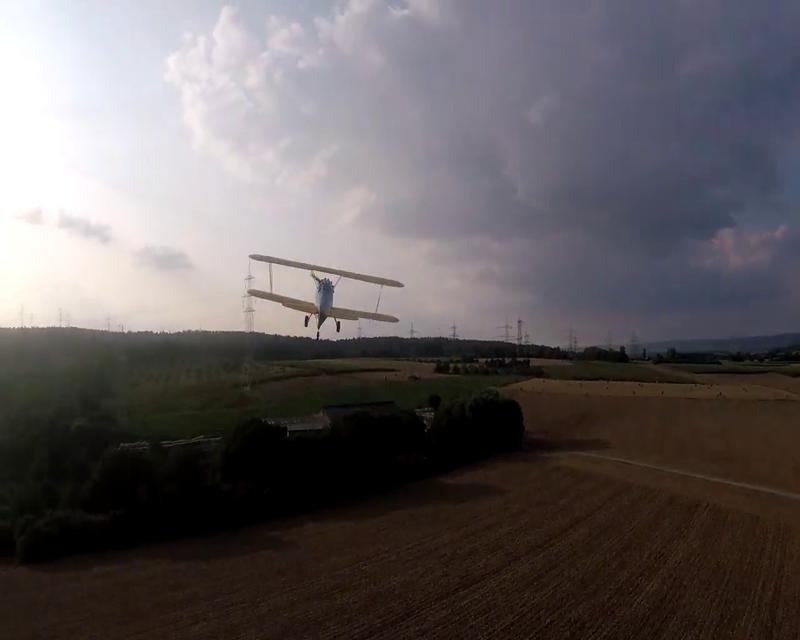UAV: (246, 254, 404, 340)
